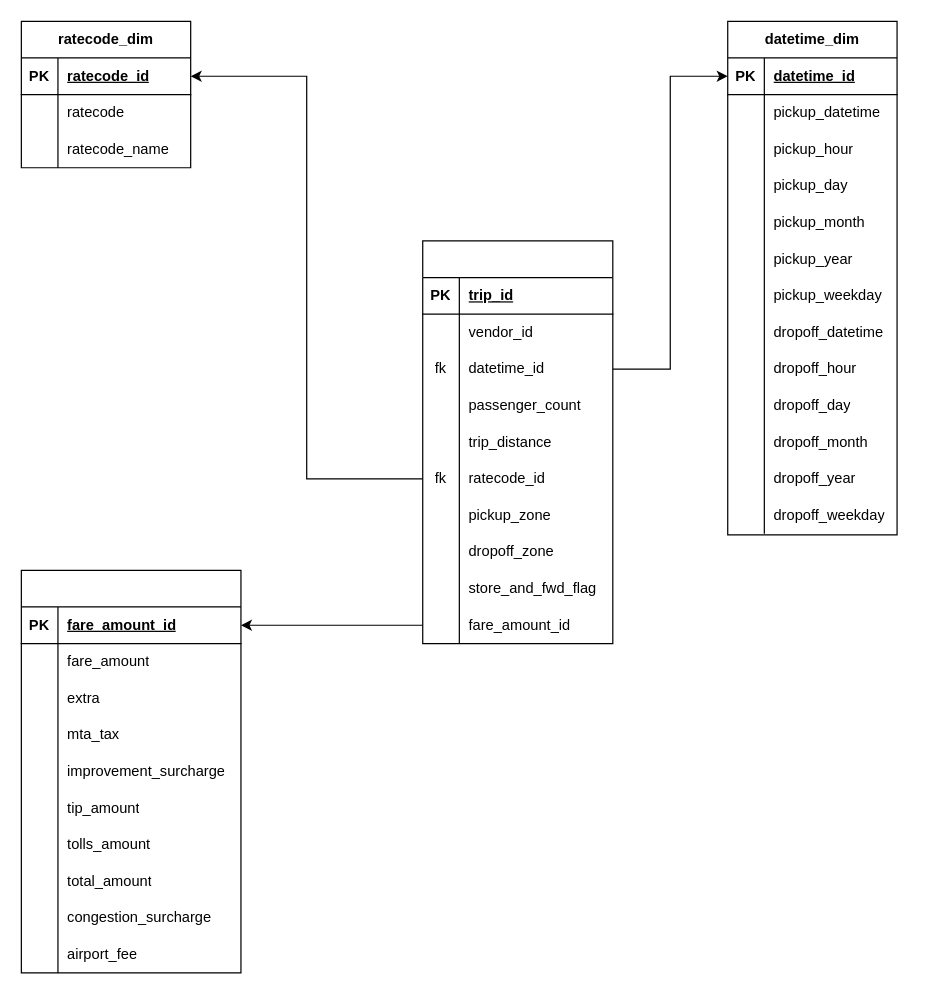
This 935x994 diagram has some shape labels left out. The box of each missing label's shape, as (x1, y1, x2, y2) in pixels:
fact_table: (422, 240, 613, 644)
fare_amount_dim: (20, 569, 241, 973)
